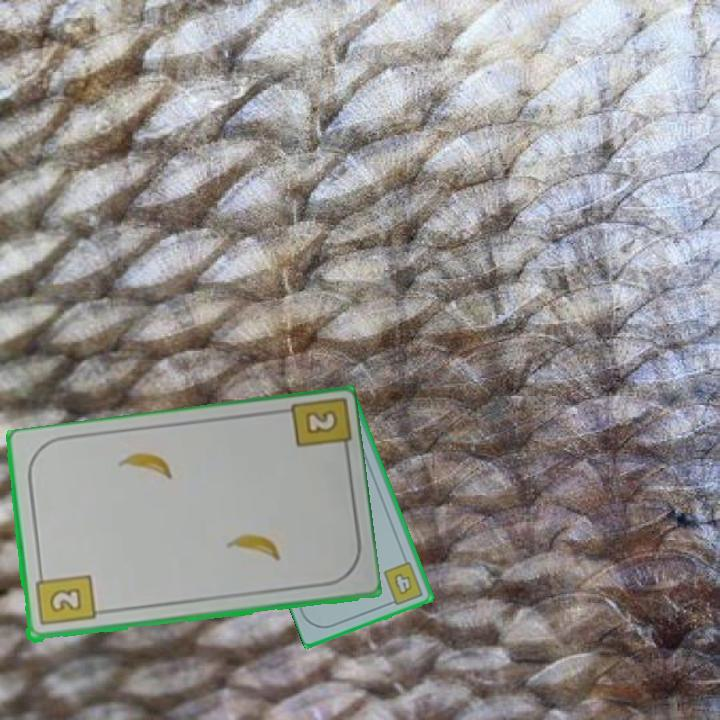2b: (31, 568, 97, 629), (301, 406, 341, 438)
4b: (380, 558, 426, 608)
